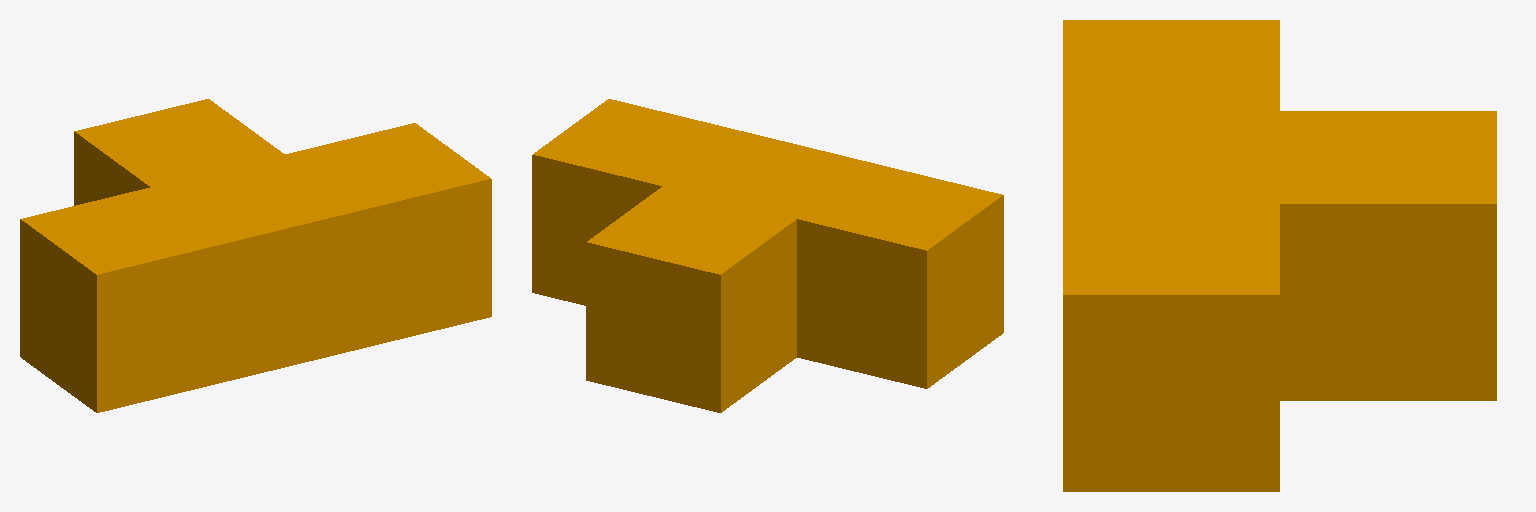
robot.urdf — 2_3T_0:
<robot name="2_3T_0">
  <link name="link">
    <visual>
      <geometry>
        <mesh filename="2_3T_0.obj" scale="1 1 1"/>
      </geometry>
    </visual>
    <collision>
      <geometry>
        <mesh filename="2_3T_0.obj" scale="1 1 1"/>
      </geometry>
    </collision>
    <inertial>
      <mass value="1"/>
      <inertia ixx="1" iyy="1" izz="1" ixy="0" ixz="0" iyz="0"/>
      <origin xyz="0 0 0" rpy="0 0 0"/>
    </inertial>
  </link>
</robot>

--- Render facts (derived) ---
Views: 3 orthographic renders of the robot side by side, from view 1: azimuth 30°, elevation 25°; view 2: azimuth 150°, elevation 25°; view 3: azimuth 270°, elevation 25°.
Robot: 2_3T_0 — 1 links, 0 joints (none); root link link; default pose: all joints at 0.
Links seen in each view (by area): view 1: link; view 2: link; view 3: link.
Boxes of the visible links, left/top/right/bottom form: link: left=20, top=99, right=491, bottom=412; link: left=532, top=99, right=1003, bottom=412; link: left=1063, top=20, right=1496, bottom=491.
Size in the robot's own frame: 0.1767 by 0.1184 by 0.0592 metres.
1 mesh visuals loaded from 1 distinct referenced files (1 OBJ).